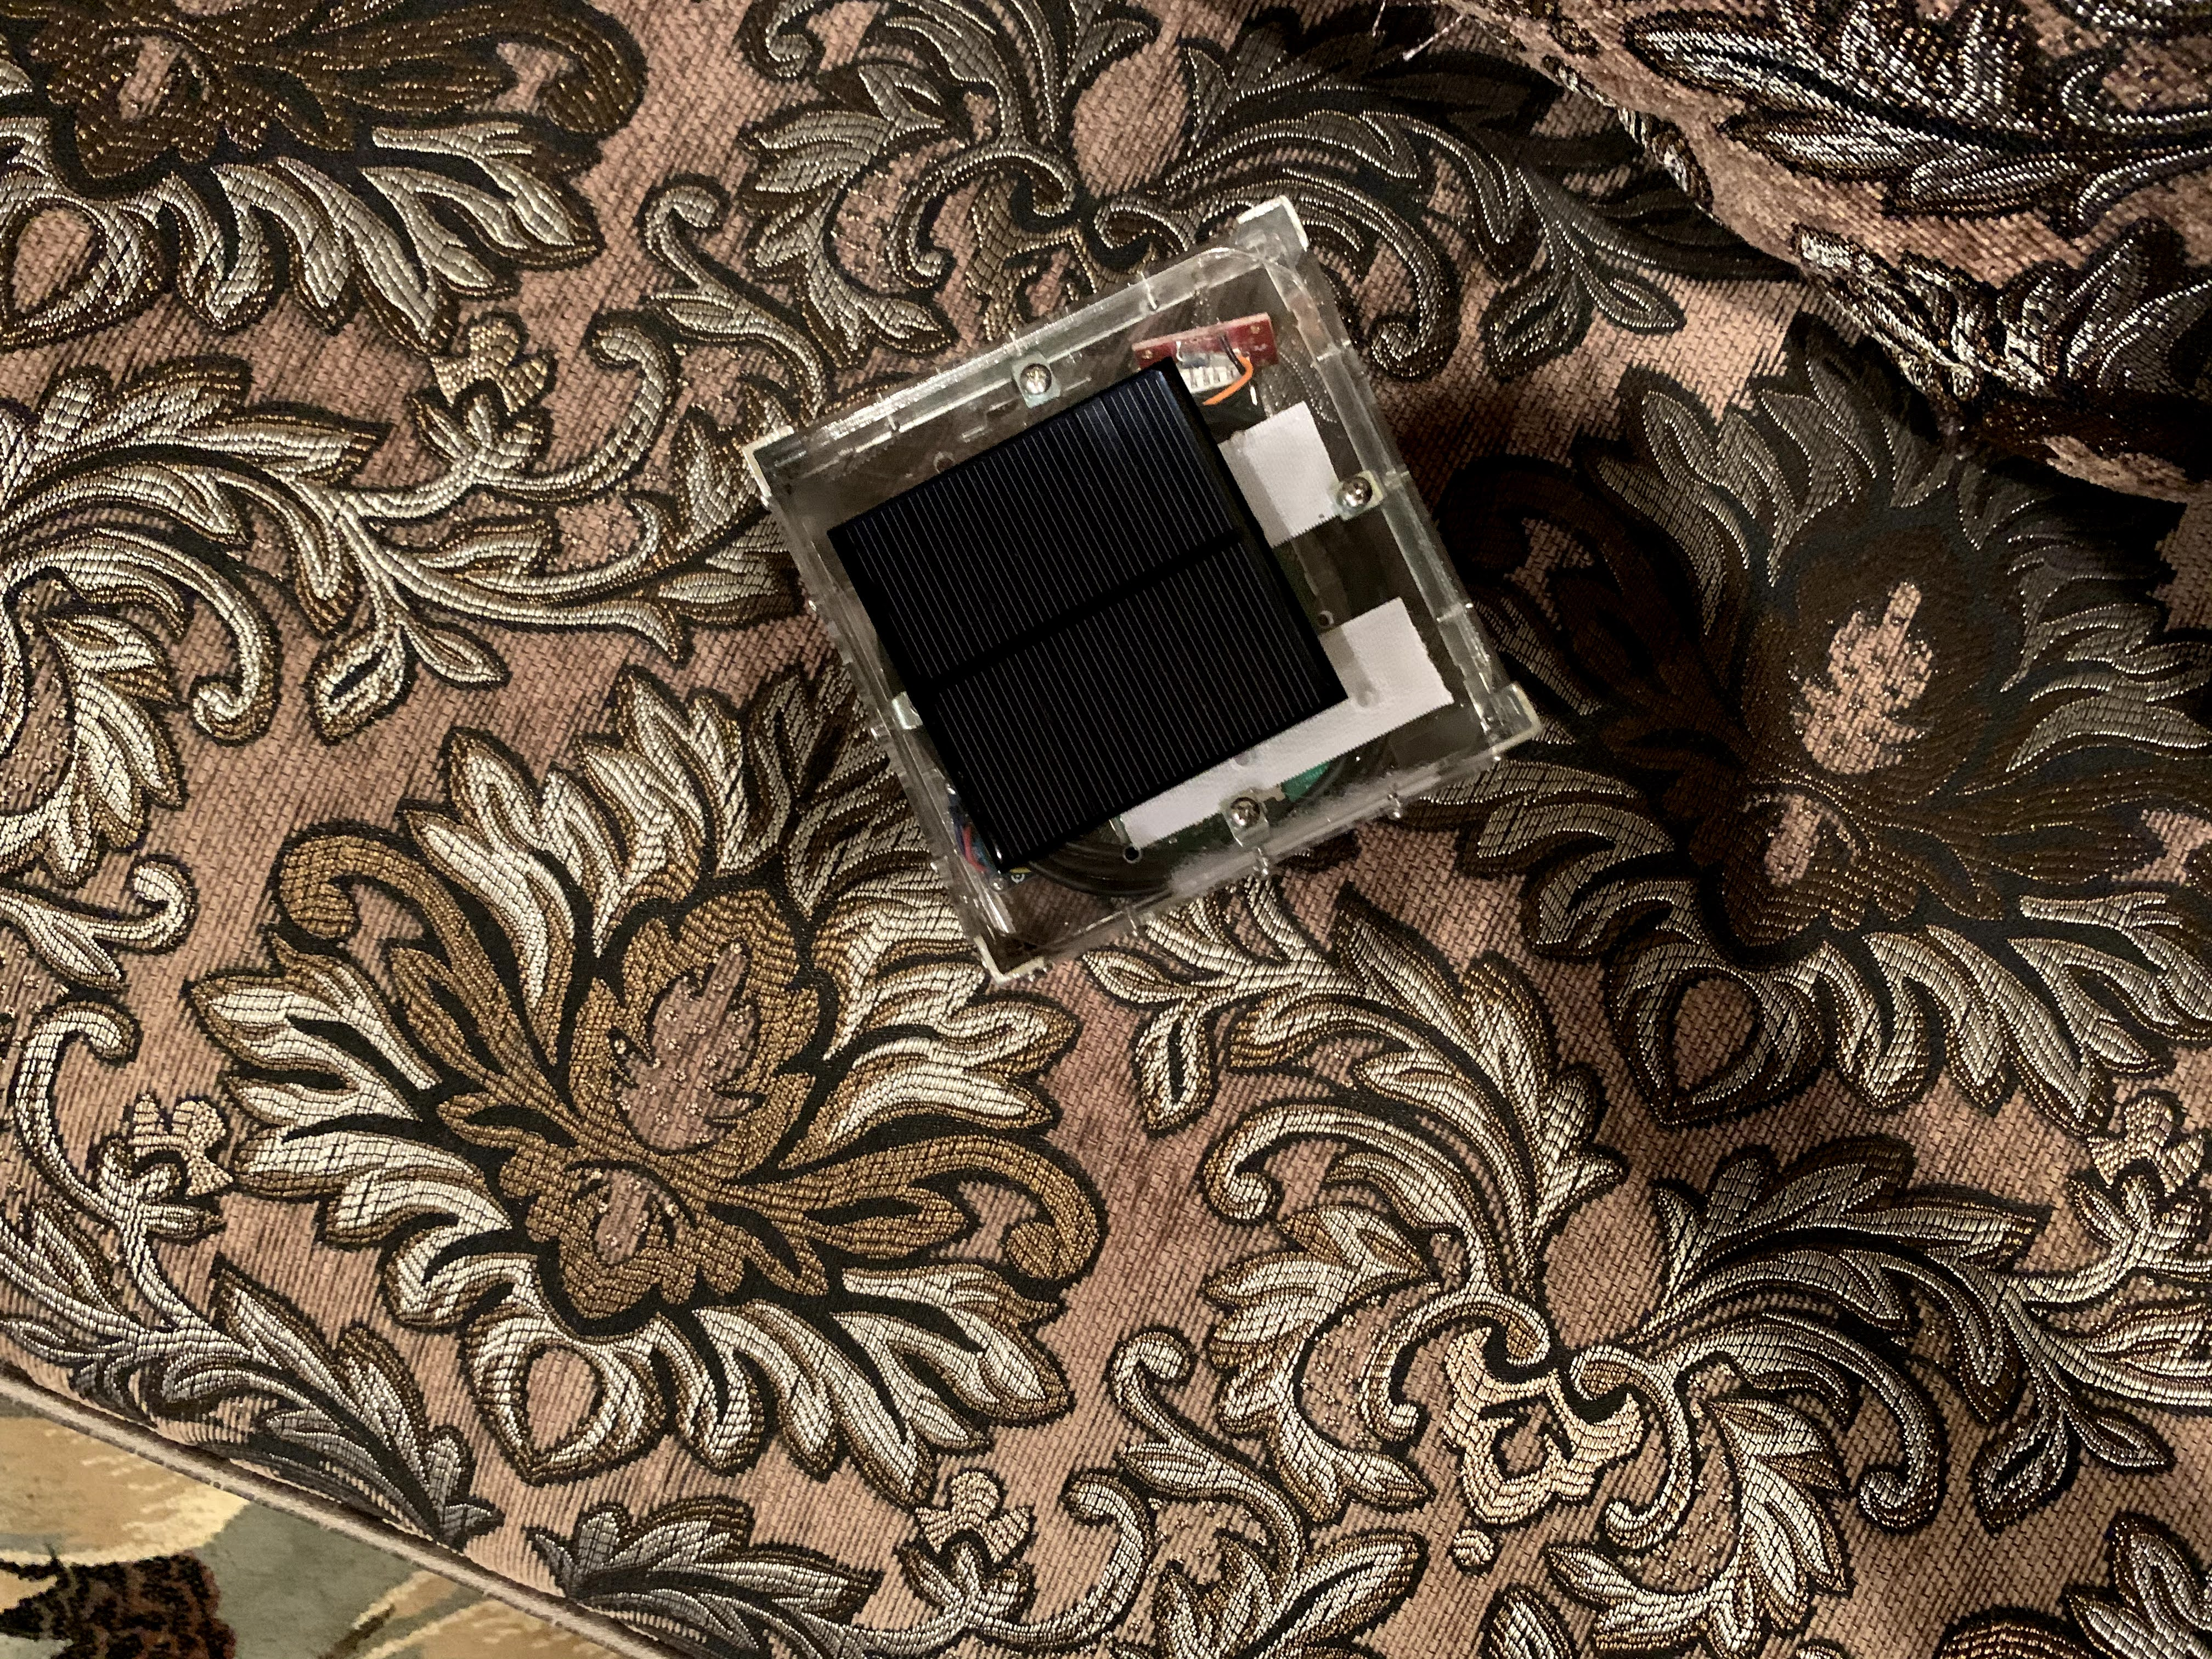Space-debris-cubesat: (747, 193, 1547, 972)
